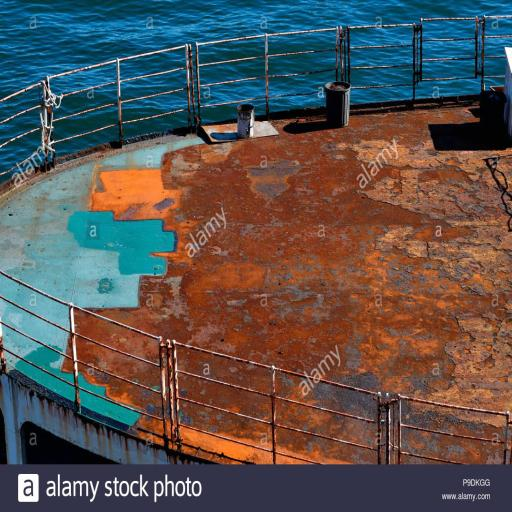segmentation: (60, 100, 512, 466), (3, 126, 203, 197)
